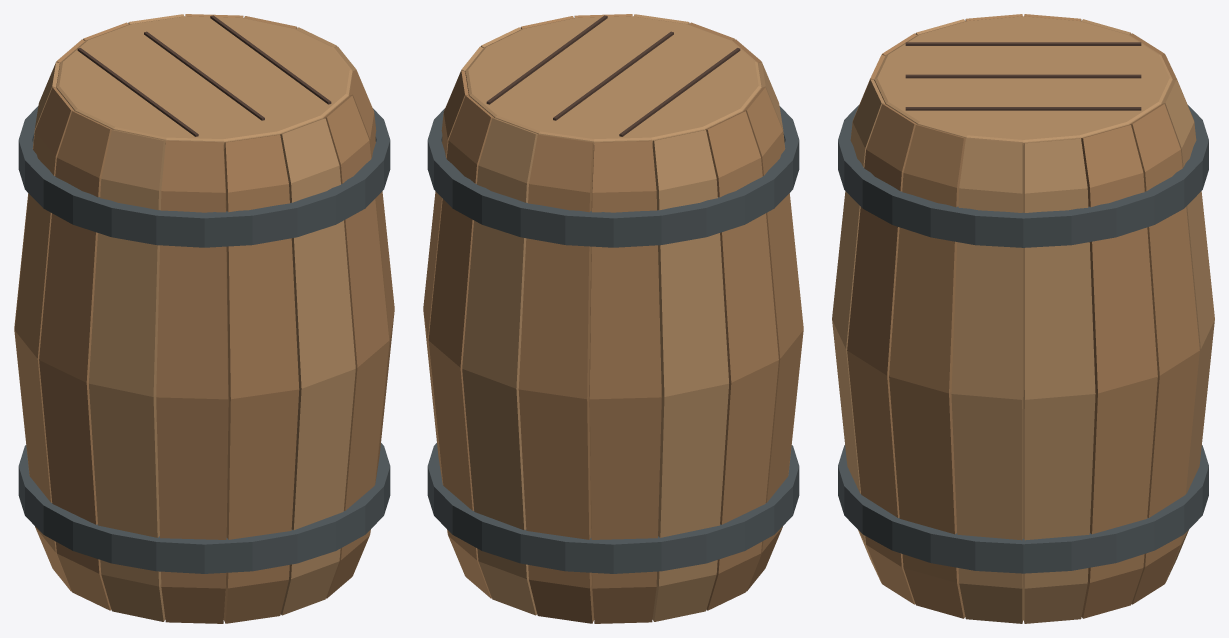
File: market_barrel_oak.glb
The picture shows the model from 3 angles, left to right: view 1: azimuth 30°, elevation 25°; view 2: azimuth 150°, elevation 25°; view 3: azimuth 270°, elevation 25°; orthographic projection.
Visible parts, largest first — view 1: market_barrel_oak; view 2: market_barrel_oak; view 3: market_barrel_oak.
Part boxes in pixels (x1,y1,x2,y2): market_barrel_oak: [14, 14, 394, 623]; market_barrel_oak: [423, 14, 803, 623]; market_barrel_oak: [832, 14, 1214, 623].
Bounding box in the file's own units: 0.65 × 0.906 × 0.65.
